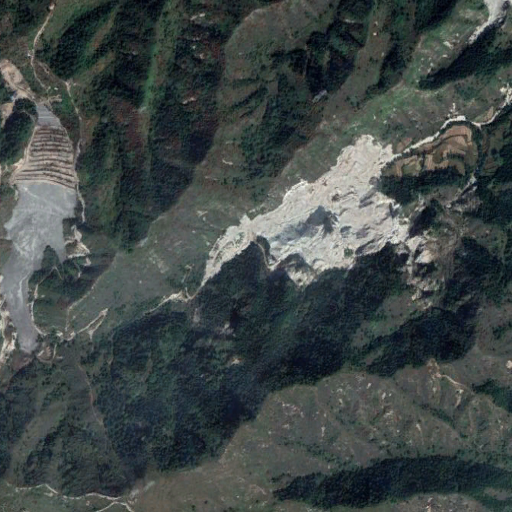tp: (3, 101, 83, 356)
